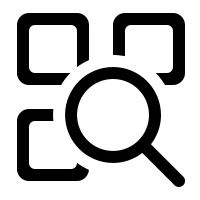searchIcon: (64, 66, 187, 190)
